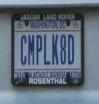8: (59, 34, 67, 65)
C: (20, 34, 27, 65)
D: (67, 34, 75, 65)
K: (51, 34, 60, 66)
L: (43, 34, 51, 66)
M: (27, 33, 35, 66)
P: (35, 34, 43, 66)
